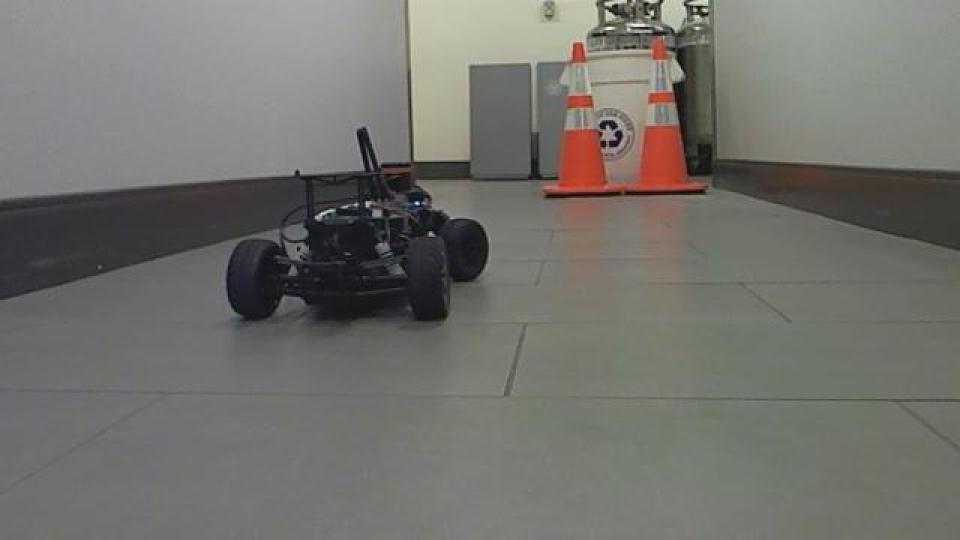car: (222, 125, 490, 326)
